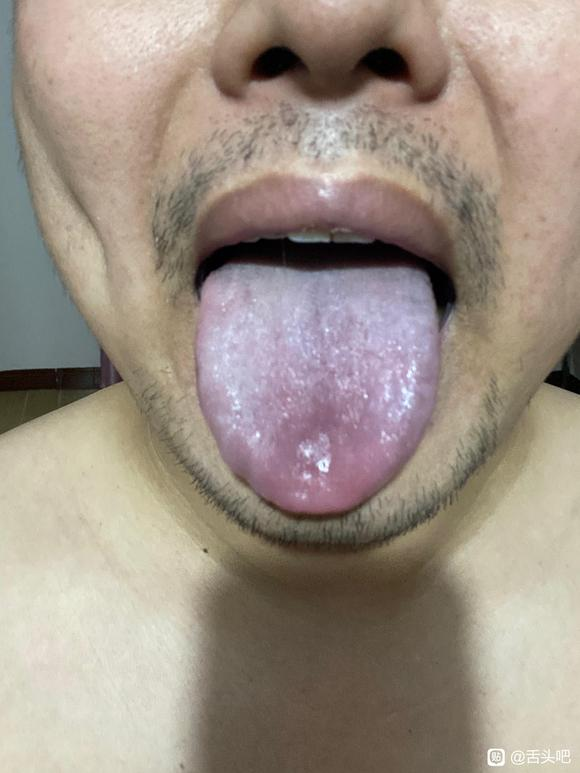baitaishe: (196, 254, 441, 514)
piweiao: (282, 407, 350, 490)
